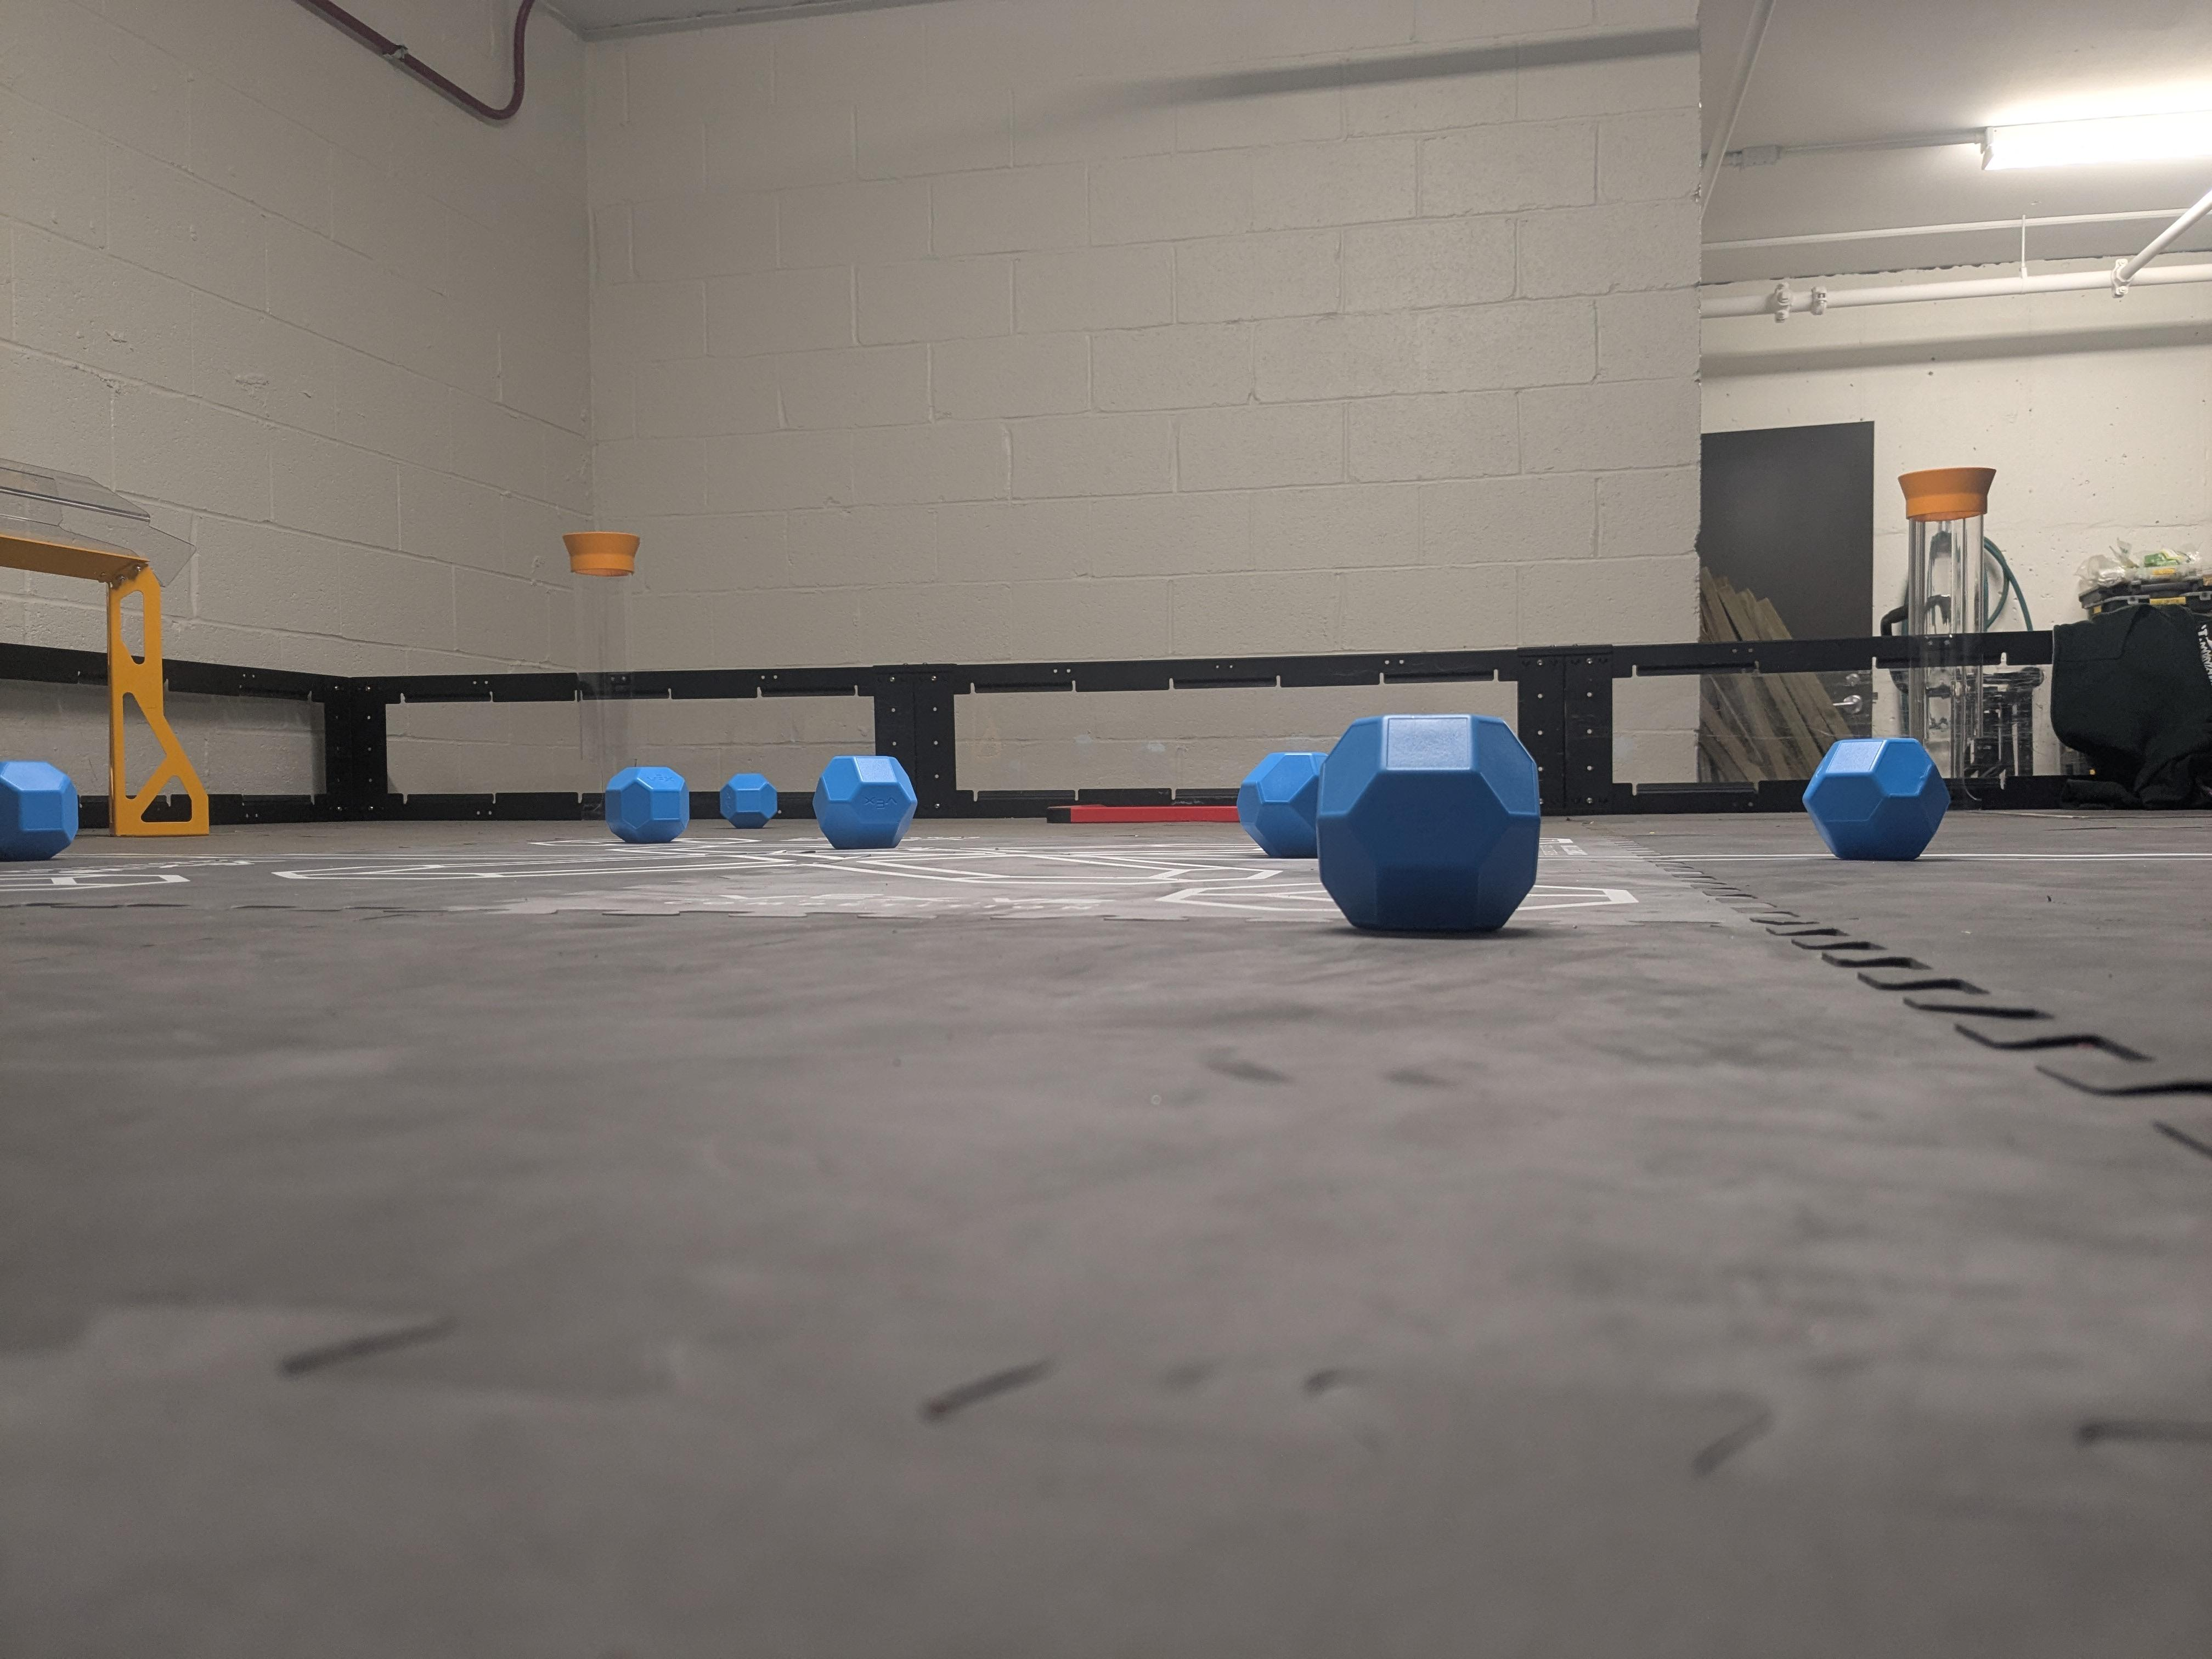Vex-Pieces-BLUE: (1237, 716, 1541, 934), (1804, 739, 1949, 861), (815, 756, 916, 847), (3, 758, 78, 857), (604, 767, 686, 836), (719, 774, 779, 828)
